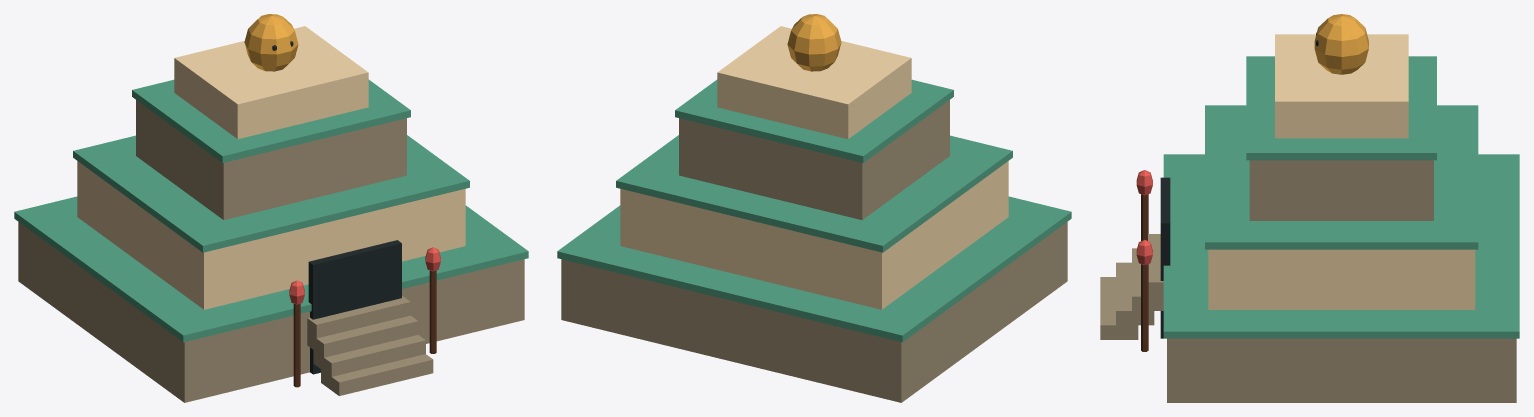
Rendered from ParkParkTemple.obj.
3 renders of one model, left to right at view 1: azimuth 30°, elevation 25°; view 2: azimuth 150°, elevation 25°; view 3: azimuth 270°, elevation 25°, orthographic. The views are drawn at different scales.
Parts seen in each view (by area): view 1: ParkParkTemple; view 2: ParkParkTemple; view 3: ParkParkTemple.
Part boxes in pixels (box(x1,y1,x2,y2)): ParkParkTemple: box(14, 14, 528, 402); ParkParkTemple: box(557, 14, 1071, 402); ParkParkTemple: box(1100, 14, 1519, 402).
Size of the model in its own units: 13.2 by 10.4 by 13.2.
